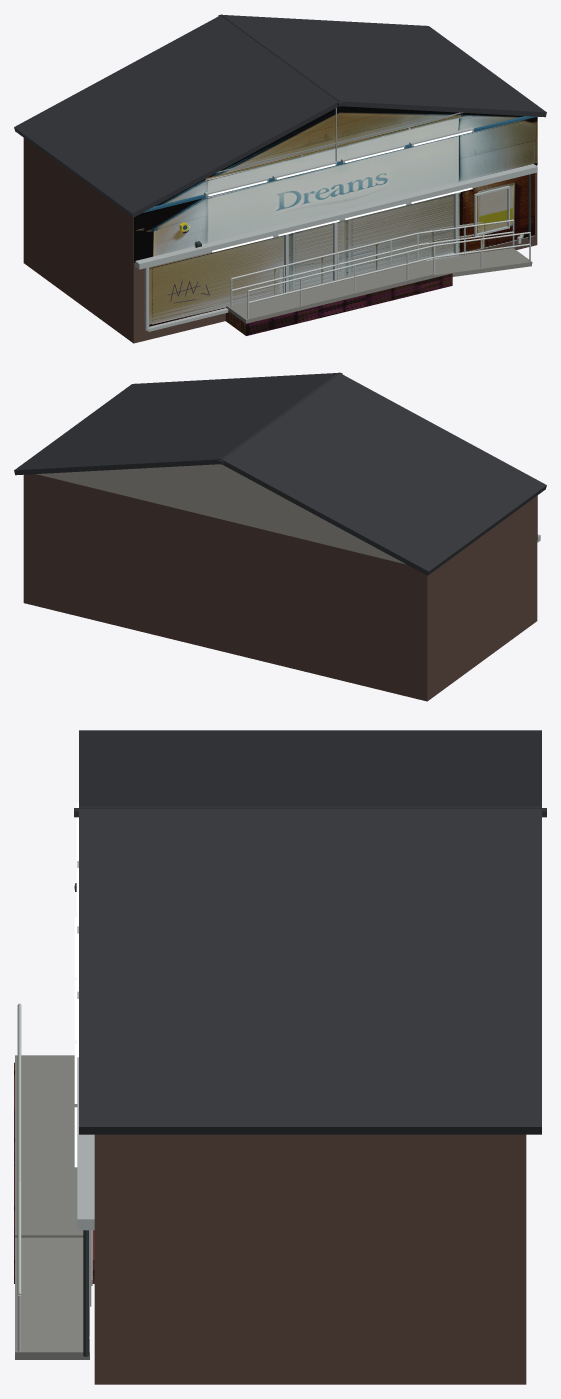
Rendered from harperhey-dreams.glb.
3 renders of one model, top to bottom at view 1: azimuth 30°, elevation 25°; view 2: azimuth 150°, elevation 25°; view 3: azimuth 270°, elevation 25°, orthographic. The views are drawn at different scales.
Parts seen in each view (by area): view 1: dreams-left-pitched-roof, dreams-right-pitched-roof, dreams-building-shell, dreams-logo-cladding-panel, dreams-photo-gable, dreams-left-shutter, dreams-right-shutter, dreams-photo-brick-return, dreams-concrete-platform, dreams-right-upper-cladding, dreams-deep-lower-fascia, dreams-left-upper-cladding (+10 smaller); view 2: dreams-building-shell, dreams-left-pitched-roof, dreams-right-pitched-roof, dreams-gabled-volume; view 3: dreams-right-pitched-roof, dreams-building-shell, dreams-left-pitched-roof, dreams-concrete-platform, dreams-accessibility-ramp, dreams-deep-lower-fascia, dreams-platform-rail-1-1.
Boxes of the visible parts, box(x1,y1,x2,y2) form: dreams-left-pitched-roof: box(14, 14, 340, 217); dreams-right-pitched-roof: box(221, 15, 546, 117); dreams-building-shell: box(23, 138, 537, 343); dreams-logo-cladding-panel: box(205, 137, 455, 243); dreams-photo-gable: box(155, 106, 524, 206); dreams-left-shutter: box(149, 235, 283, 326); dreams-right-shutter: box(337, 194, 453, 278); dreams-photo-brick-return: box(458, 173, 534, 253); dreams-concrete-platform: box(226, 260, 434, 323); dreams-right-upper-cladding: box(455, 117, 537, 182); dreams-deep-lower-fascia: box(135, 164, 537, 269); dreams-left-upper-cladding: box(134, 198, 205, 262); dreams-building-shell: box(23, 474, 537, 701); dreams-left-pitched-roof: box(220, 372, 546, 575); dreams-right-pitched-roof: box(14, 373, 339, 475); dreams-gabled-volume: box(36, 464, 405, 564); dreams-right-pitched-roof: box(79, 806, 541, 1134); dreams-building-shell: box(94, 1134, 526, 1384); dreams-left-pitched-roof: box(79, 730, 541, 808); dreams-concrete-platform: box(15, 1055, 83, 1237); dreams-accessibility-ramp: box(15, 1237, 89, 1359); dreams-deep-lower-fascia: box(77, 861, 94, 1230); dreams-platform-rail-1-1: box(17, 1003, 21, 1182).
Size of the model in its own units: 18.49 by 8.36 by 10.5.
Materials: 17 (3 with a texture image).
